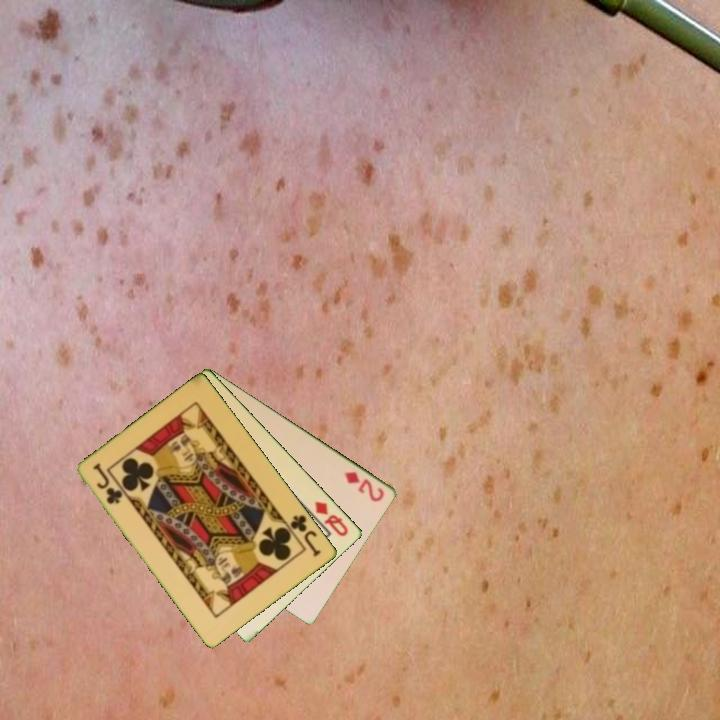2d: (341, 468, 388, 505)
Jc: (282, 511, 324, 560), (90, 460, 126, 507)
Qd: (311, 497, 352, 540)
